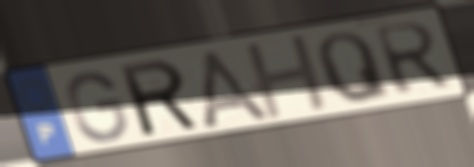A: (196, 45, 277, 129)
G: (63, 69, 132, 145)
H: (241, 31, 334, 123)
Q: (314, 29, 396, 106)
R: (115, 56, 204, 140), (369, 19, 455, 98)
